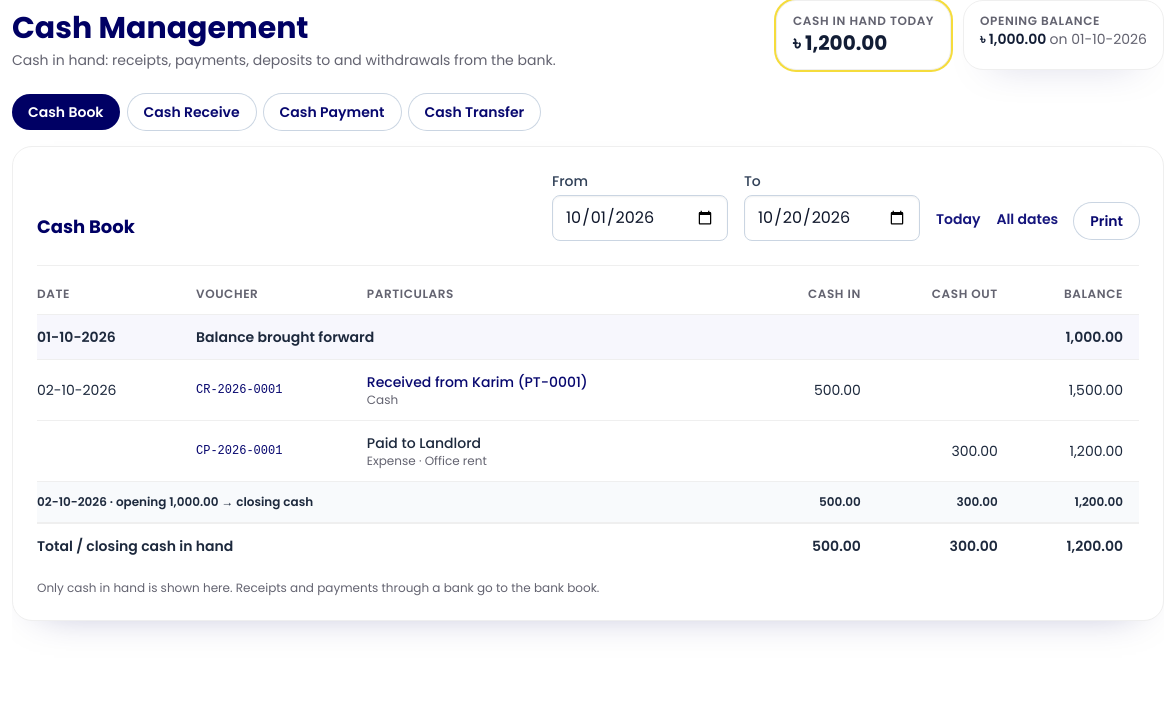
Test: Cash section › switches to today and to all dates
Click the button "Today".
click(958, 225)  # box [936,209,980,241]
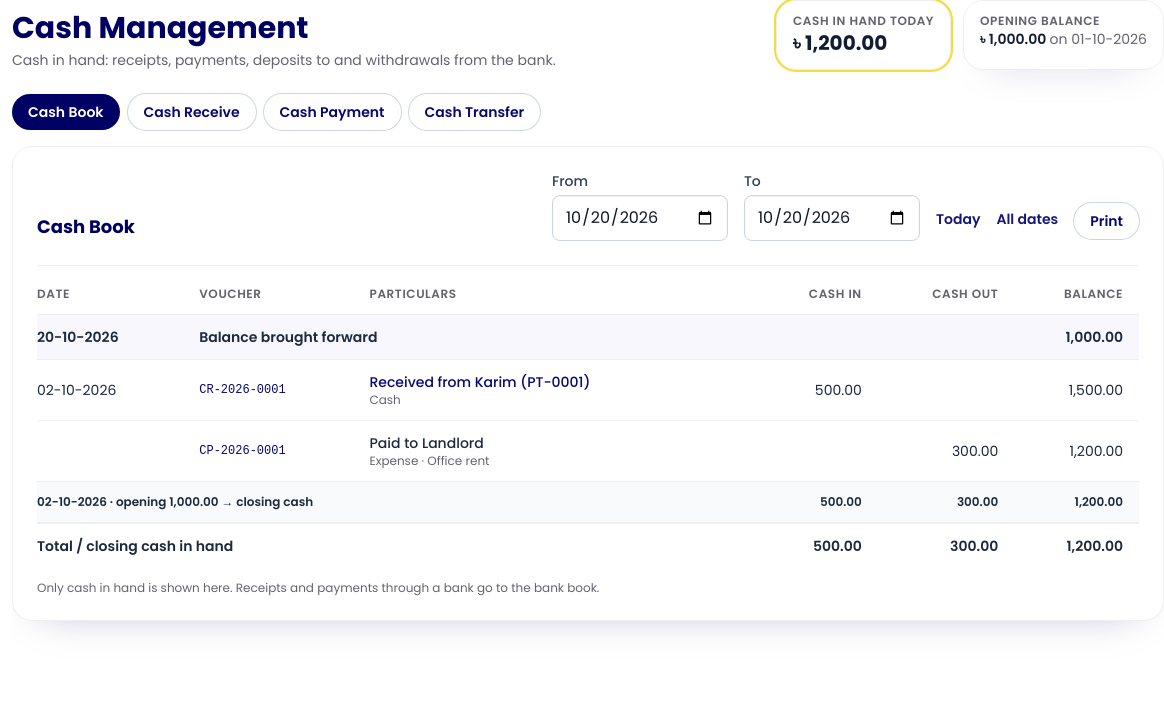
Click the button "All dates".
click(1027, 225)  # box [996,209,1058,241]
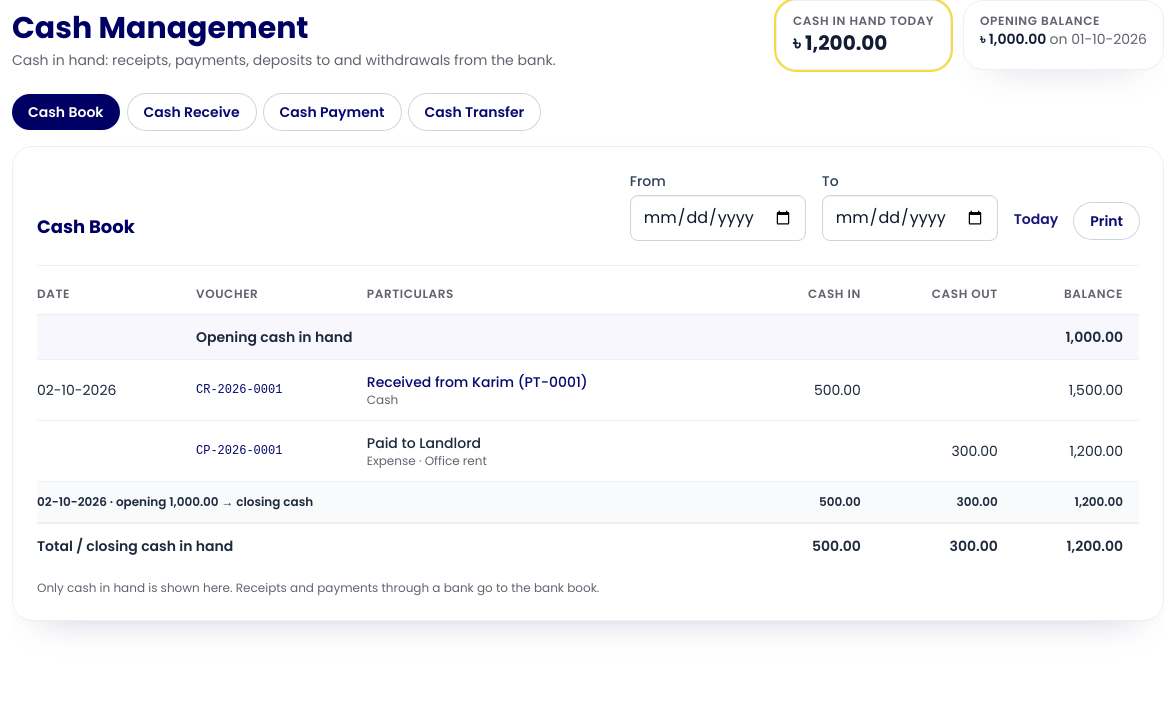
Result: the row "Opening cash in hand 1,000.00" is shown at [37,314,1139,360]
